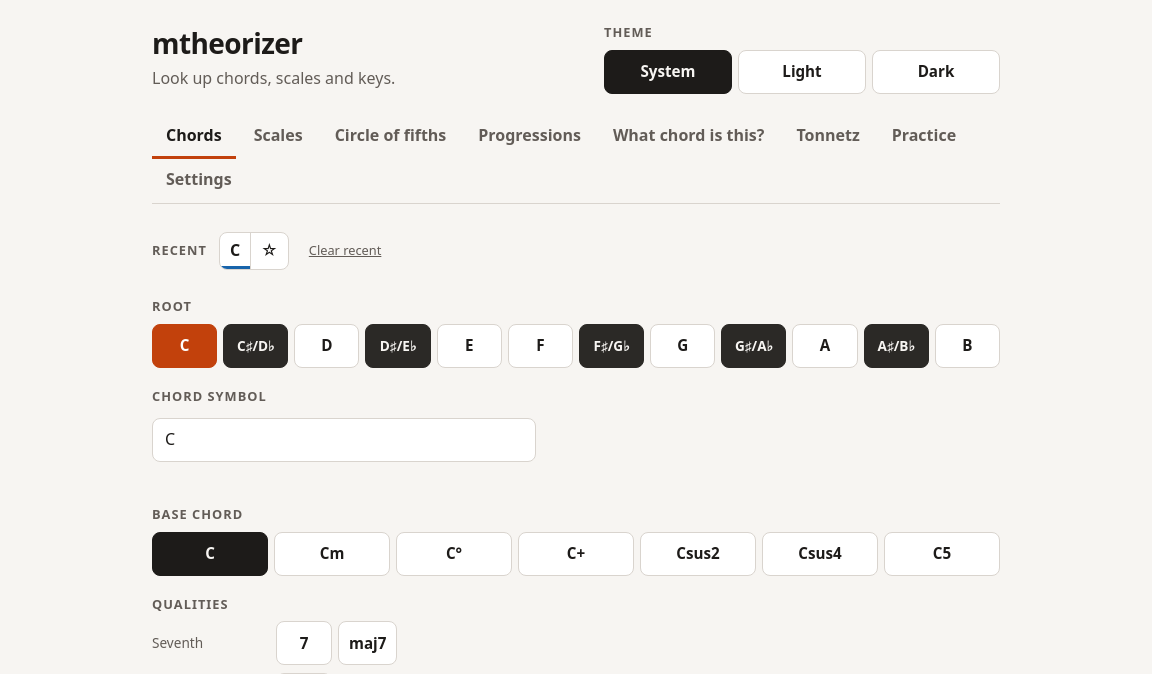
Test case: recent and favorite choices › restores the whole choice with one click
What coordinates should you click on to do the following:
click the button "7"
I would click on:
 (304, 644)
Its box is x1=276 y1=622 x2=332 y2=666.
(page scrolled)
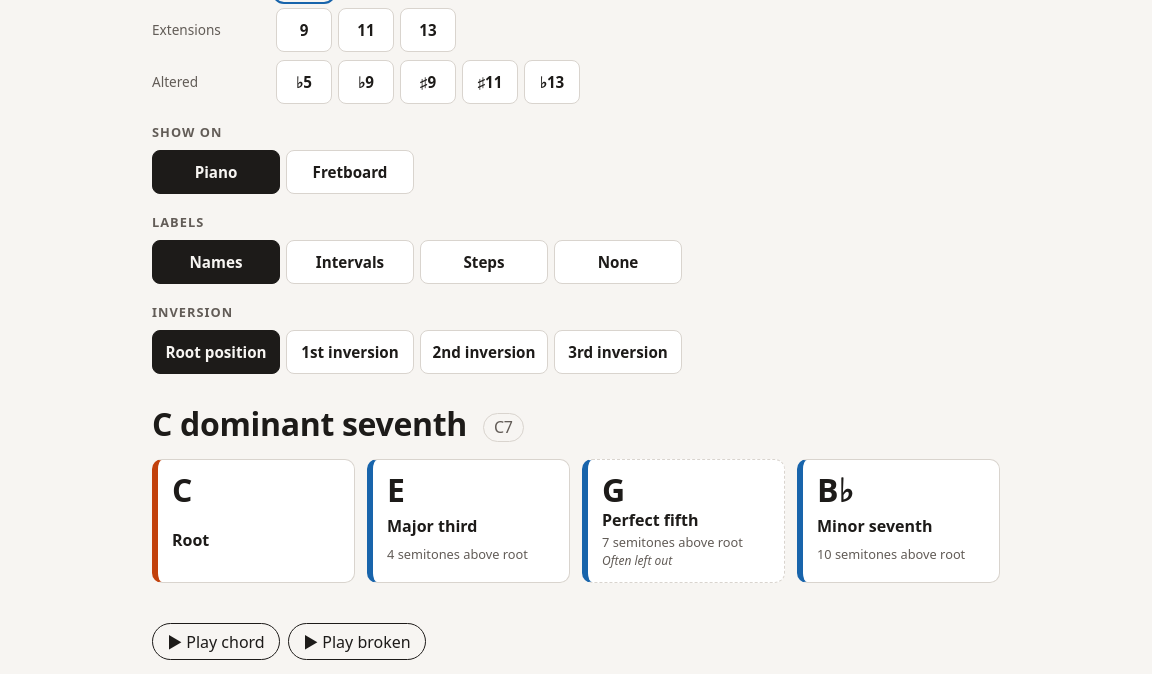
What coordinates should you click on to do the following:
click the radio button labelled "1st inversion"
I would click on:
 (350, 352)
Its box is x1=286 y1=330 x2=414 y2=374.
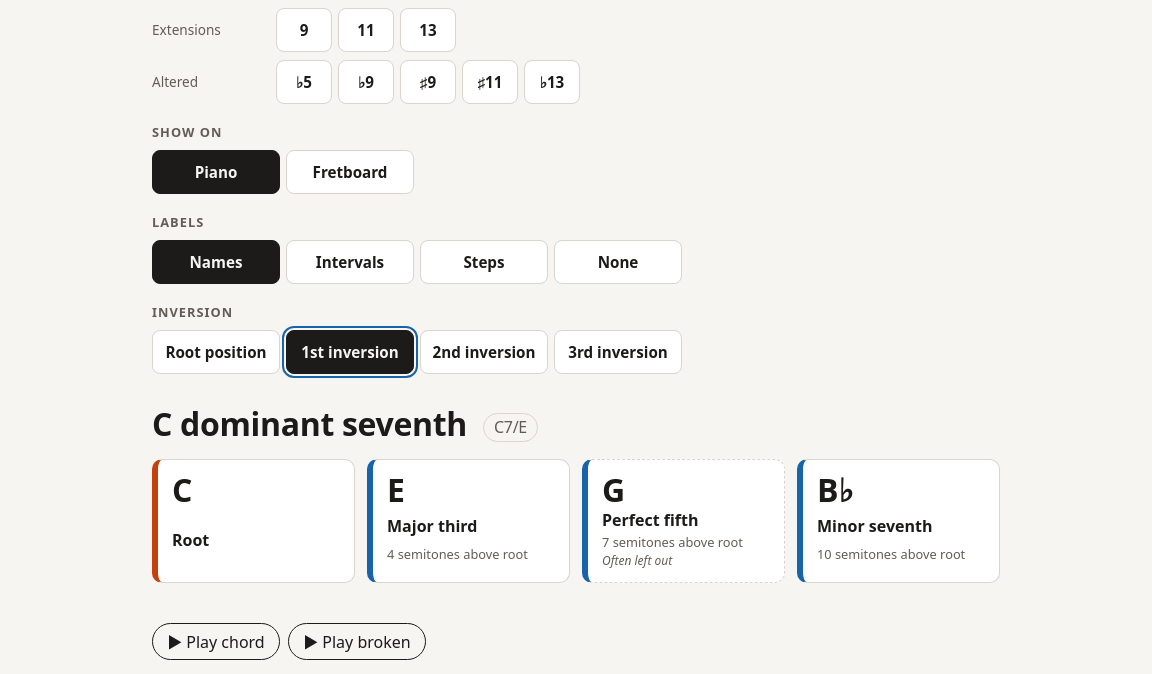
What coordinates should you click on to do the following:
click the radio button labelled "Fretboard"
I would click on:
 (350, 172)
Its box is x1=286 y1=150 x2=414 y2=194.
(page scrolled)
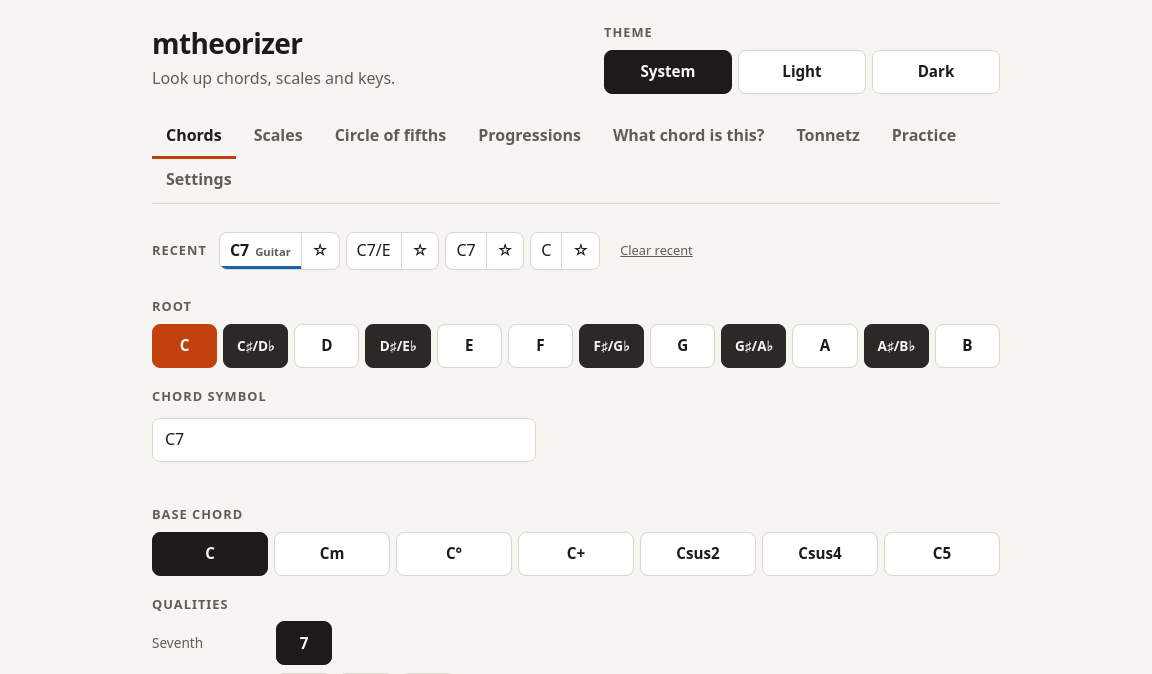
What coordinates should you click on to do the following:
click the radio button labelled "E"
I would click on:
 (469, 346)
Its box is x1=437 y1=324 x2=502 y2=368.
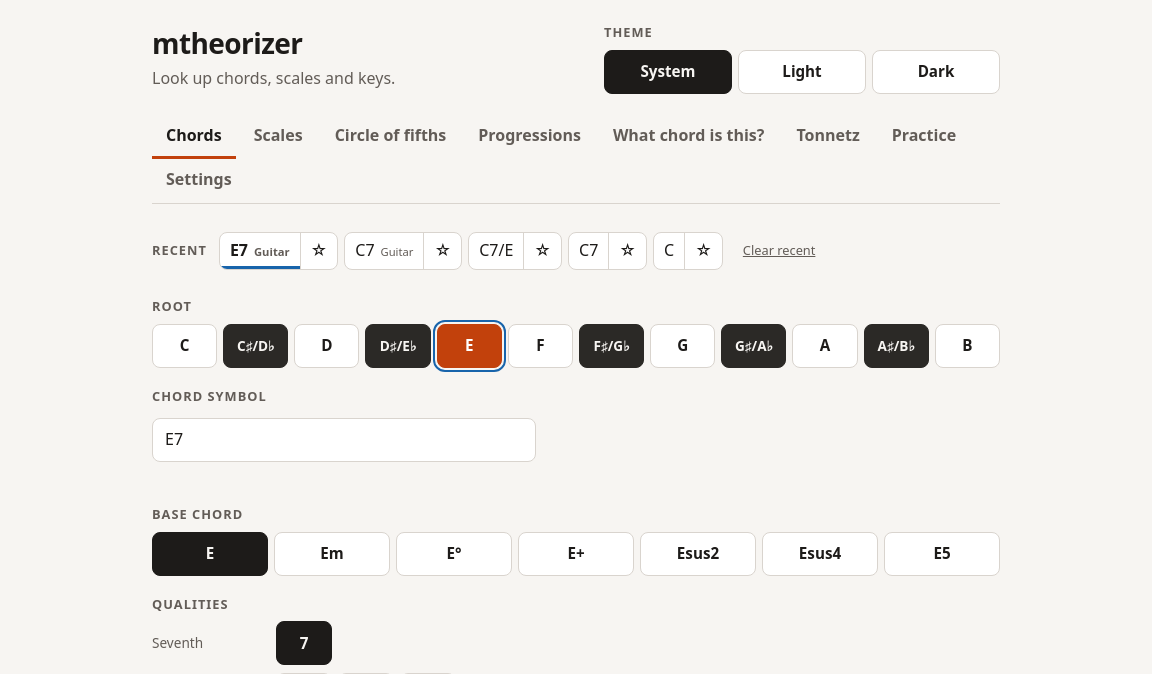
What coordinates should you click on to do the following:
click the button named "Open C7/E (Piano)"
I would click on:
 (496, 251)
Its box is x1=469 y1=233 x2=523 y2=269.
(page scrolled)
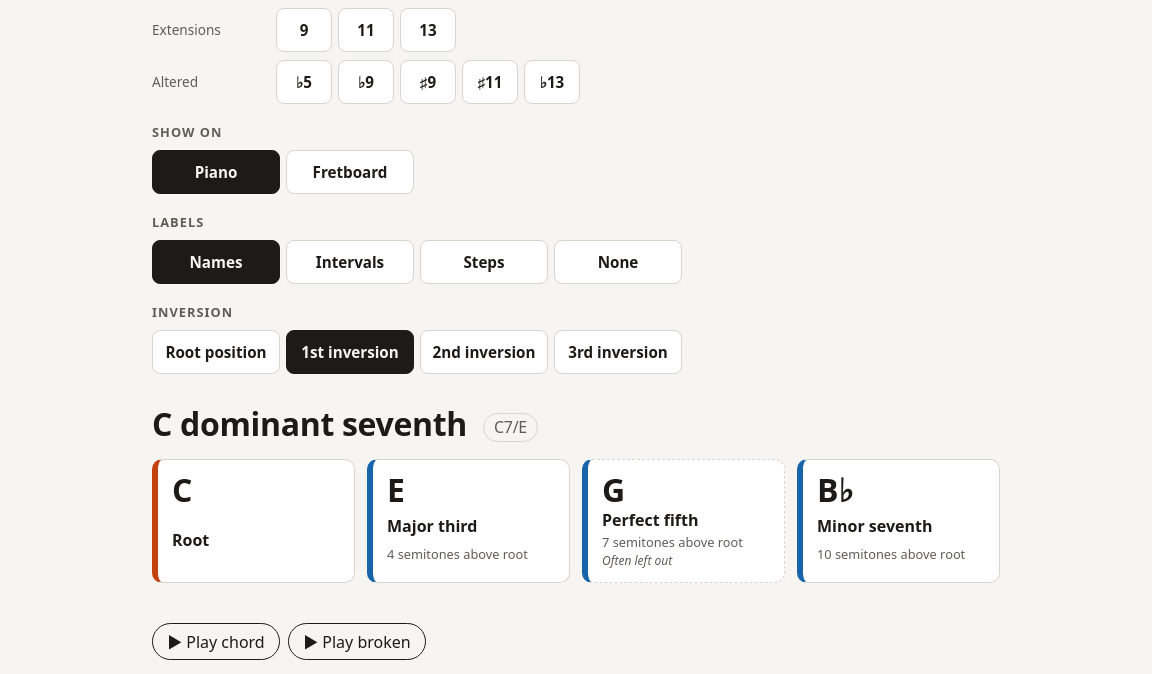
Check: the heading "C dominant seventh C7/E" is shown, box x1=152 y1=402 x2=538 y2=445
Check: the radio button labelled "1st inversion" is checked, box x1=286 y1=330 x2=414 y2=374
